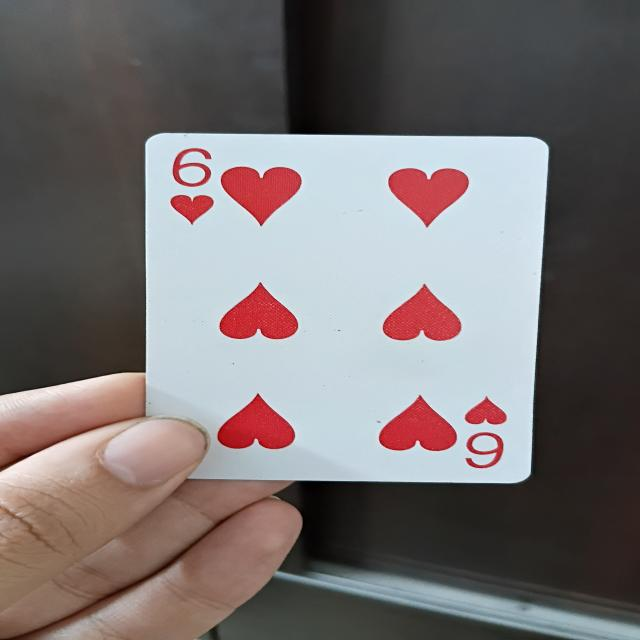6H: (141, 130, 538, 489)
